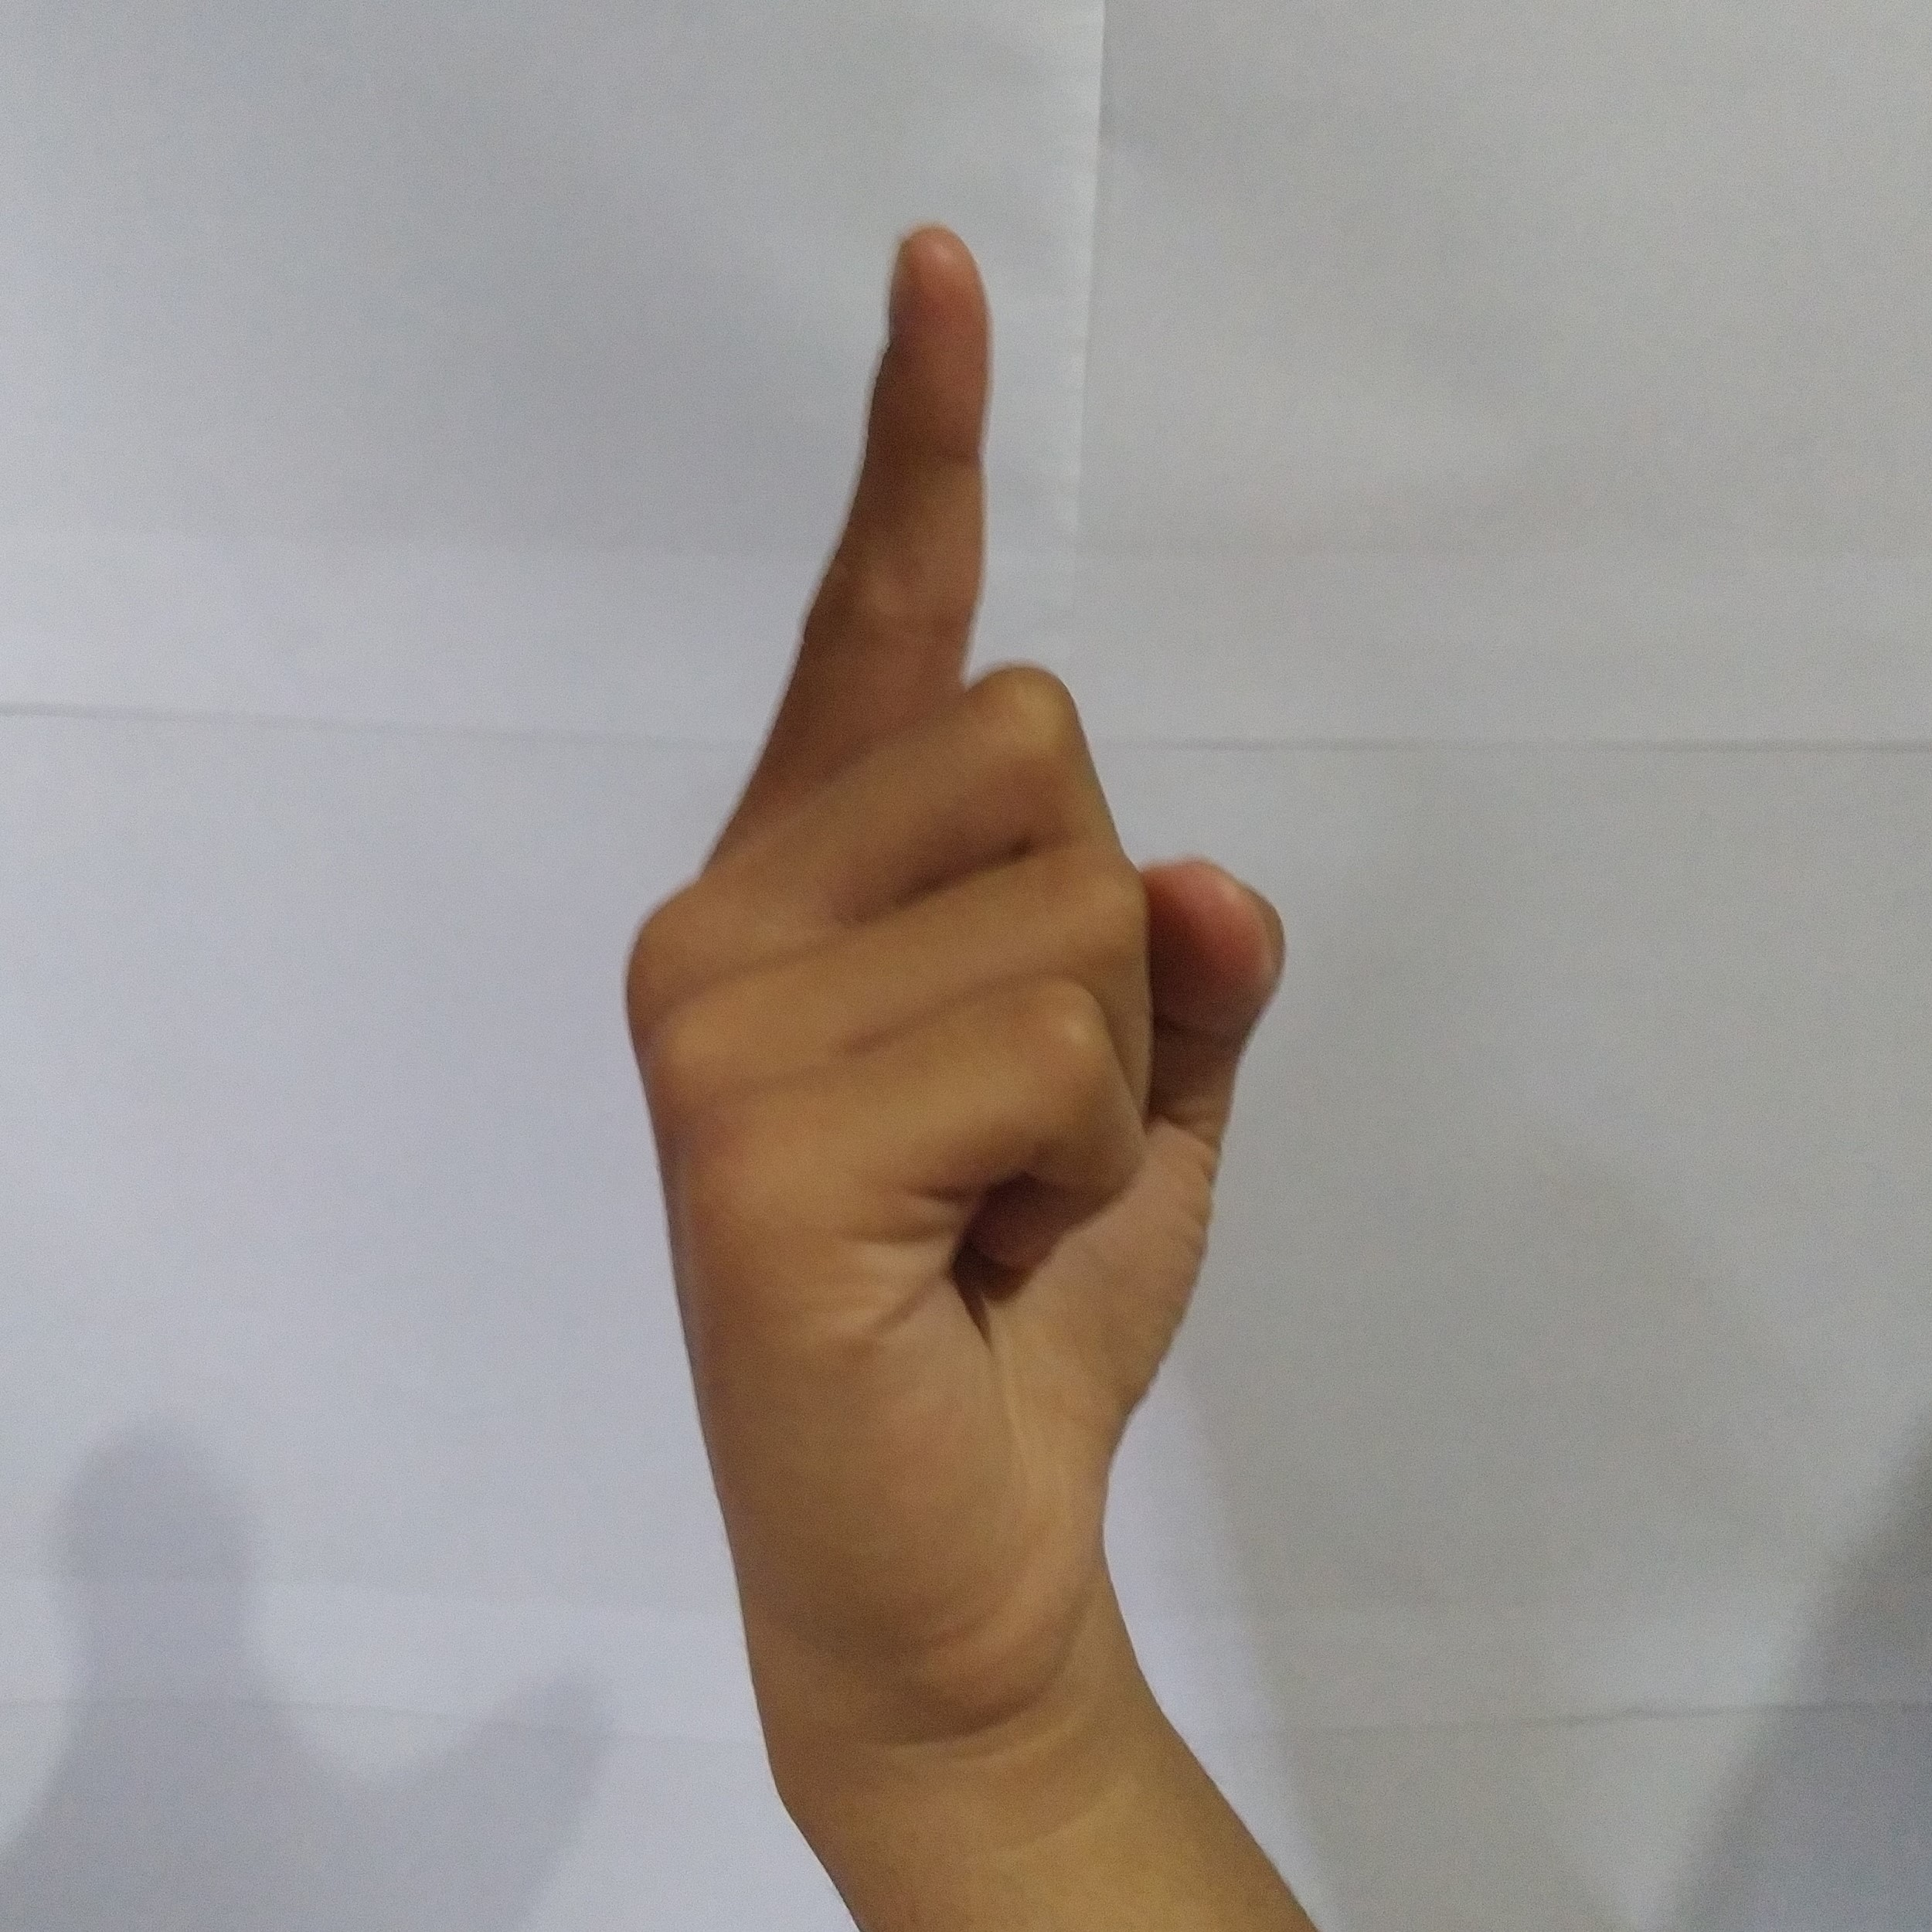D: (598, 193, 1309, 1580)
